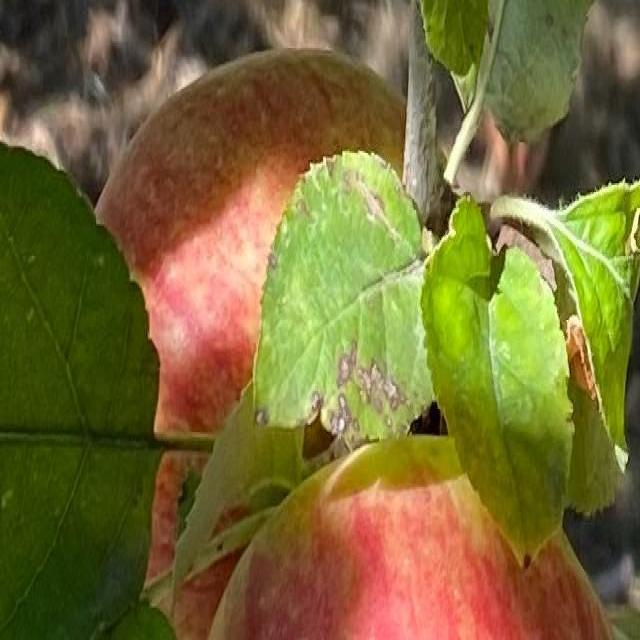Rotten Apple: (95, 46, 448, 640), (207, 435, 617, 640)
